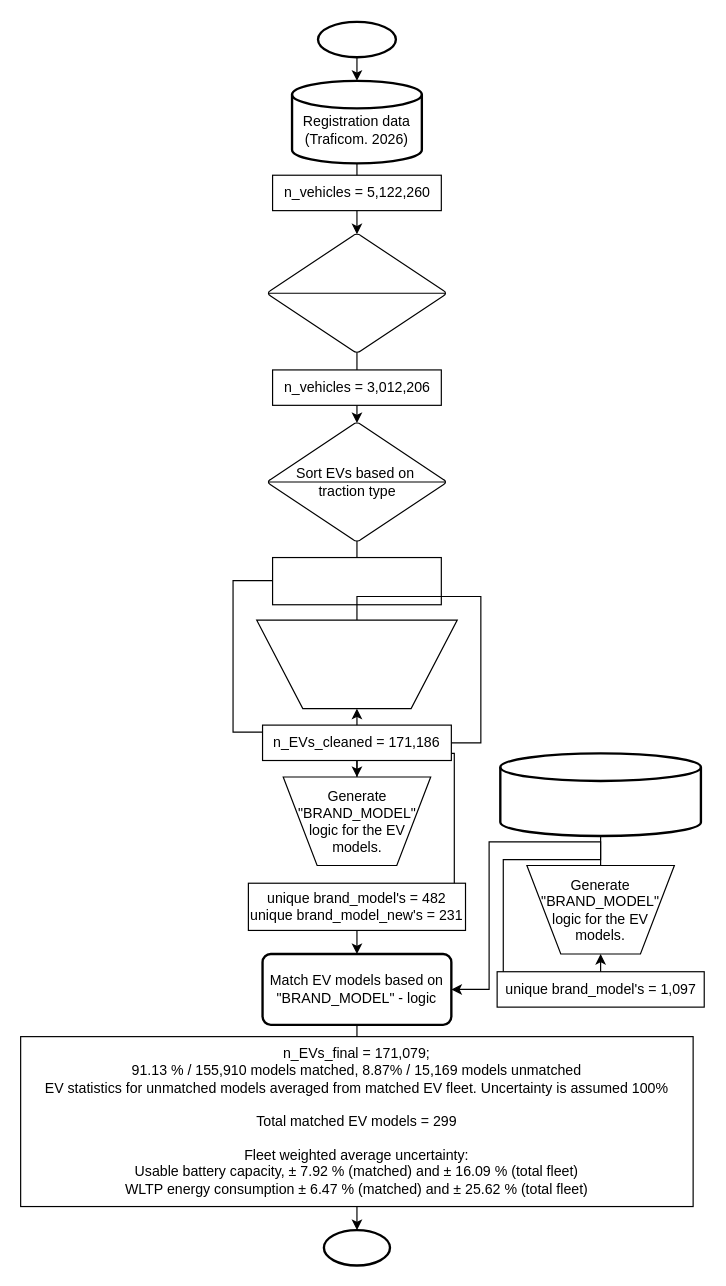
This 726x1286 diagram has some shape labels left out. Each missing label, with the centre of its shape:
clean data: Unify the EV names and check traction type classification: (x=356, y=664)
end: (x=356, y=1247)
EV statistics (gaia-charge/EVDB. 2026): (x=600, y=794)
n_EVs = 171,212 unique EV models = 846: (x=356, y=580)
Sort cars and vans: (M1, M1G, N1, N1G): (x=356, y=292)
start: (x=356, y=39)
